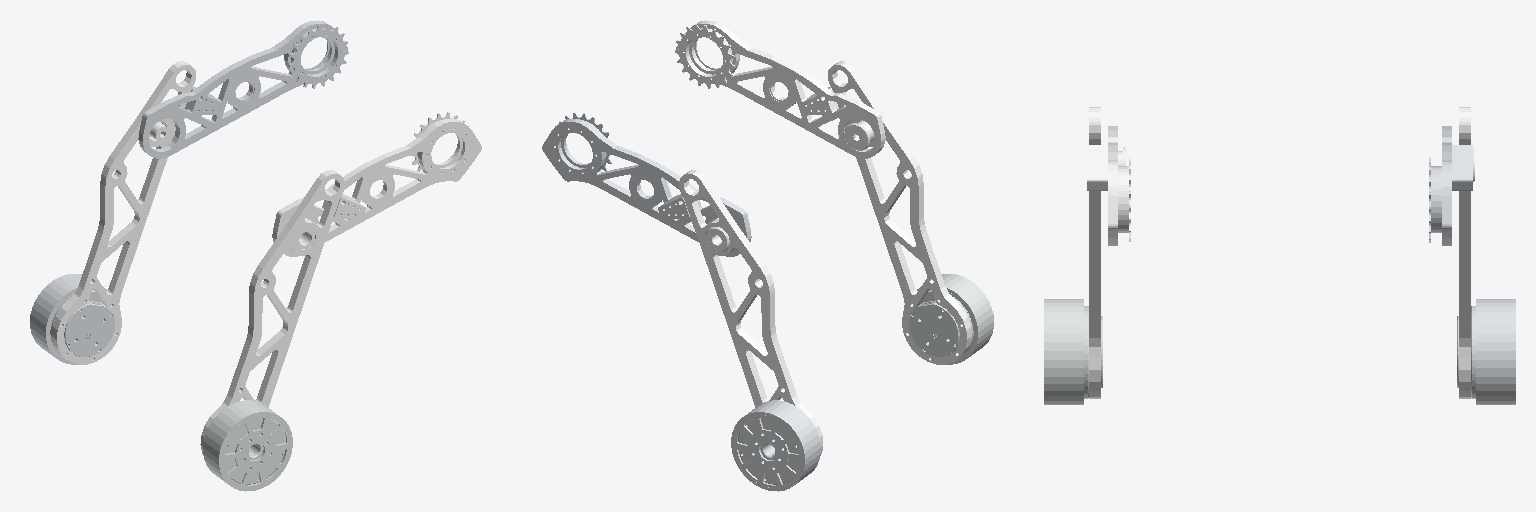
URDF robot description (LW-360 Gen2V1):
<?xml version="1.0" encoding="utf-8"?>
<!-- This URDF was automatically created by SolidWorks to URDF Exporter! Originally created by Stephen Brawner (brawner@gmail.com)
     Commit Version: 1.6.0-1-g15f4949  Build Version: 1.6.7594.29634
     For more information, please see http://wiki.ros.org/sw_urdf_exporter -->
<!-- 碰撞体已从 STL 网格改为简化几何体，与 MJCF (LW360.xml) 保持一致 -->
<!-- 左右腿参数已修正为完美对称（以右腿为基准） -->
<robot
  name="LW-360 Gen2V1">
  <link
    name="base_link">
    <inertial>
      <origin
        xyz="-0.0383947 -0.0008525 -0.0655415"
        rpy="0 0 0" />
      <mass
        value= "7.3247159" />
      <inertia
        ixx="0.1185013"
        ixy="0.0000558"
        ixz="0.0037814"
        iyy="0.1507238"
        iyz="0.0004387"
        izz="0.2153489" />
    </inertial>
    <visual>
      <origin
        xyz="0 0 0"
        rpy="0 0 0" />
      <geometry>
        <mesh
          filename="meshes/base_link.STL" />
      </geometry>
      <material
        name="">
        <color
          rgba="1 1 1 1" />
      </material>
    </visual>
    <!-- base_link 碰撞体: 主体箱体 -->
    <collision>
      <origin
        xyz="-0.04 0 -0.1"
        rpy="0 0 0" />
      <geometry>
        <box size="0.46 0.24 0.18" />
      </geometry>
    </collision>
    <!-- base_link 碰撞体: 右侧电机 -->
    <collision>
      <origin
        xyz="-0.034 -0.12 -0.03"
        rpy="1.5708 0 0" />
      <geometry>
        <cylinder radius="0.05" length="0.08" />
      </geometry>
    </collision>
    <!-- base_link 碰撞体: 左侧电机 -->
    <collision>
      <origin
        xyz="-0.034 0.12 -0.03"
        rpy="1.5708 0 0" />
      <geometry>
        <cylinder radius="0.05" length="0.08" />
      </geometry>
    </collision>
  </link>
  <link
    name="right_thigh_link">
    <inertial>
      <origin
        xyz="-0.0137451473004268 0.0110123343866449 0.0984245547482283"
        rpy="0 0 0" />
      <mass
        value="0.610696054077469" />
      <inertia
        ixx="0.0035478"
        ixy="-0.0000036"
        ixz="0.0003795"
        iyy="0.0037918"
        iyz="0.0000241"
        izz="0.0003382" />
    </inertial>
    <visual>
      <origin
        xyz="0 0 0"
        rpy="0 0 0" />
      <geometry>
        <mesh
          filename="meshes/right_thigh_link.STL" />
      </geometry>
      <material
        name="">
        <color
          rgba="1 1 1 1" />
      </material>
    </visual>
    <!-- right_thigh 碰撞体: 关节电机 -->
    <collision>
      <origin
        xyz="0 0.02 0"
        rpy="1.5708 0 0" />
      <geometry>
        <cylinder radius="0.035" length="0.1" />
      </geometry>
    </collision>
    <!-- right_thigh 碰撞体: 连杆 -->
    <collision>
      <origin
        xyz="-0.01 0 0.11"
        rpy="0.0 0 0" />
      <geometry>
        <cylinder radius="0.025" length="0.2" />
      </geometry>
    </collision>
  </link>
  <joint
    name="right_thigh_joint"
    type="revolute">
    <origin
      xyz="-0.0337728171221104 -0.164614695167351 -0.0274999999999989"
      rpy="0 0 0" />
    <parent
      link="base_link" />
    <child
      link="right_thigh_link" />
    <axis
      xyz="0 -1 0" />
    <limit
      lower="0.7"
      upper="2.7"
      effort="40"
      velocity="17" />
  </joint>
  <link
    name="right_calf_link">
    <inertial>
      <origin
        xyz="-0.083871 0.0078304 0.047461"
        rpy="0 0 0" />
      <mass
        value="0.3123662" />
      <inertia
        ixx="0.0009584"
        ixy="-0.0000480"
        ixz=" 0.0014136"
        iyy="0.0036658"
        iyz="0.0000271"
        izz="0.0027379" />
    </inertial>
    <visual>
      <origin
        xyz="0 0 0"
        rpy="0 0 0" />
      <geometry>
        <mesh
          filename="meshes/right_calf_link.STL" />
      </geometry>
      <material
        name="">
        <color
          rgba="1 1 1 1" />
      </material>
    </visual>
    <!-- right_calf 碰撞体: 关节电机 -->
    <collision>
      <origin
        xyz="0 0.015 0"
        rpy="1.5708 0 0" />
      <geometry>
        <cylinder radius="0.03" length="0.06" />
      </geometry>
    </collision>
    <!-- right_calf 碰撞体: L型连杆1 (从关节到拐点) -->
    <!-- MJCF: fromto="0 0.01 0.02 -0.18 0.01 0.10" -->
    <collision>
      <origin
        xyz="-0.09 0.01 0.06"
        rpy="-0.0 2.0 0" />
      <geometry>
        <cylinder radius="0.015" length="0.20" />
      </geometry>
    </collision>
    <!-- right_calf 碰撞体: L型连杆2 (从拐点到轮子) -->
    <!-- MJCF: fromto="-0.18 0.01 0.10 -0.22 0.01 0.12" -->
    <collision>
      <origin
        xyz="-0.20 0.01 0.11"
        rpy="0 0.46 0" />
      <geometry>
        <cylinder radius="0.02" length="0.02" />
      </geometry>
    </collision>
  </link>
  <joint
    name="right_calf_joint"
    type="revolute">
    <origin
      xyz="-0.0331636364236594 -0.0184999999999837 0.212426865577682"
      rpy="0 0 0" />
    <parent
      link="right_thigh_link" />
    <child
      link="right_calf_link" />
    <axis
      xyz="0 1 0" />
    <limit
      lower="-2.1"
      upper="0.9"
      effort="40"
      velocity="17" />
  </joint>
  <link
    name="right_foot_link">
    <inertial>
      <origin
        xyz="-0.0000015 0.0197779 -0.0000114"
        rpy="0 0 0" />
      <mass
        value="1.1015508" />
      <inertia
        ixx="0.0008532"
        ixy="0"
        ixz="0.0000002"
        iyy="0.0013495"
        iyz="0"
        izz="0.0008535" />
    </inertial>
    <visual>
      <origin
        xyz="0 0 0"
        rpy="0 0 0" />
      <geometry>
        <mesh
          filename="meshes/right_foot_link.STL" />
      </geometry>
      <material
        name="">
        <color
          rgba="0.90196 0.92157 0.92157 1" />
      </material>
    </visual>
    <!-- right_foot 碰撞体: 轮子 -->
    <collision>
      <origin
        xyz="0 0.02 0"
        rpy="1.5708 0 0" />
      <geometry>
        <cylinder radius="0.05" length="0.04" />
      </geometry>
    </collision>
  </link>
  <joint
    name="right_foot_joint"
    type="continuous">
    <origin
      xyz="-0.226463894503409 -0.0391999999999997 0.123604629712413"
      rpy="0 0 0" />
    <parent
      link="right_calf_link" />
    <child
      link="right_foot_link" />
    <axis
      xyz="0 1 0" />
  </joint>
  <link
    name="left_thigh_link">
    <inertial>
      <origin
        xyz="-0.0137451473004268 -0.0110123343866449 0.0984245547482283"
        rpy="0 0 0" />
      <mass
        value="0.610696054077469" />
      <inertia
        ixx="0.0035478"
        ixy="0.0000036"
        ixz="0.0003795"
        iyy="0.0037918"
        iyz="-0.0000241"
        izz="0.0003382" />
    </inertial>
    <visual>
      <origin
        xyz="0 0 0"
        rpy="0 0 0" />
      <geometry>
        <mesh
          filename="meshes/left_thigh_link.STL" />
      </geometry>
      <material
        name="">
        <color
          rgba="0.89804 0.91765 0.92941 1" />
      </material>
    </visual>
    <!-- left_thigh 碰撞体: 关节电机 (参考右侧) -->
    <collision>
      <origin
        xyz="0 -0.02 0"
        rpy="1.5708 0 0" />
      <geometry>
        <cylinder radius="0.035" length="0.1" />
      </geometry>
    </collision>
    <!-- left_thigh 碰撞体: 连杆 (参考右侧) -->
    <collision>
      <origin
        xyz="-0.01 0 0.11"
        rpy="0.0 0 0" />
      <geometry>
        <cylinder radius="0.025" length="0.2" />
      </geometry>
    </collision>
  </link>
  <joint
    name="left_thigh_joint"
    type="revolute">
    <origin
      xyz="-0.0337728171221104 0.164614695167351 -0.0274999999999989"
      rpy="0 0 0" />
    <parent
      link="base_link" />
    <child
      link="left_thigh_link" />
    <axis
      xyz="0 1 0" />
    <limit
      lower="-2.7"
      upper="-0.7"
      effort="40"
      velocity="17" />
  </joint>
  <link
    name="left_calf_link">
    <inertial>
      <origin
        xyz="-0.083871 -0.0078304 0.047461"
        rpy="0 0 0" />
      <mass
        value="0.3123662" />
      <inertia
        ixx="0.0009584"
        ixy="0.0000480"
        ixz="0.0014136"
        iyy="0.0036658"
        iyz="-0.0000271"
        izz="0.0027379" />
    </inertial>
    <visual>
      <origin
        xyz="0 0 0"
        rpy="0 0 0" />
      <geometry>
        <mesh
          filename="meshes/left_calf_link.STL" />
      </geometry>
      <material
        name="">
        <color
          rgba="1 1 1 1" />
      </material>
    </visual>
    <!-- left_calf 碰撞体: 关节电机 (参考右侧) -->
    <collision>
      <origin
        xyz="0 -0.015 0"
        rpy="1.5708 0 0" />
      <geometry>
        <cylinder radius="0.03" length="0.06" />
      </geometry>
    </collision>
    <!-- left_calf 碰撞体: L型连杆1 (从关节到拐点, 参考右侧) -->
    <!-- MJCF: fromto="0 -0.01 0.02 -0.18 -0.01 0.10" -->
    <collision>
      <origin
        xyz="-0.09 -0.01 0.06"
        rpy="-0.0 2.0 0" />
      <geometry>
        <cylinder radius="0.015" length="0.20" />
      </geometry>
    </collision>
    <!-- left_calf 碰撞体: L型连杆2 (从拐点到轮子, 参考右侧) -->
    <!-- MJCF: fromto="-0.18 -0.01 0.10 -0.22 -0.01 0.12" -->
    <collision>
      <origin
        xyz="-0.20 -0.01 0.11"
        rpy="0 0.46 0" />
      <geometry>
        <cylinder radius="0.02" length="0.02" />
      </geometry>
    </collision>
  </link>
  <joint
    name="left_calf_joint"
    type="revolute">
    <origin
      xyz="-0.0331636364236594 0.0184999999999837 0.212426865577682"
      rpy="0 0 0" />
    <parent
      link="left_thigh_link" />
    <child
      link="left_calf_link" />
    <axis
      xyz="0 -1 0" />
    <limit
      lower="-0.9"
      upper="2.1"
      effort="40"
      velocity="17" />
  </joint>
  <link
    name="left_foot_link">
    <inertial>
      <origin
        xyz="-0.0000015 -0.0197779 -0.0000114"
        rpy="0 0 0" />
      <mass
        value="1.1015508" />
      <inertia
        ixx="0.0008532"
        ixy="0"
        ixz="0.0000002"
        iyy="0.0013495"
        iyz="0"
        izz="0.0008535" />
    </inertial>
    <visual>
      <origin
        xyz="0 0 0"
        rpy="0 0 0" />
      <geometry>
        <mesh
          filename="meshes/left_foot_link.STL" />
      </geometry>
      <material
        name="">
        <color
          rgba="0.89804 0.91765 0.92941 1" />
      </material>
    </visual>
    <!-- left_foot 碰撞体: 轮子 -->
    <collision>
      <origin
        xyz="0 -0.02 0"
        rpy="1.5708 0 0" />
      <geometry>
        <cylinder radius="0.05" length="0.04" />
      </geometry>
    </collision>
  </link>
  <joint
    name="left_foot_joint"
    type="continuous">
    <origin
      xyz="-0.226463894503409 0.039200000000002 0.123604629712404"
      rpy="0 0 0" />
    <parent
      link="left_calf_link" />
    <child
      link="left_foot_link" />
    <axis
      xyz="0 -1 0" />
  </joint>
</robot>

--- What the picture shows (computed from the rendered views, not written in the file) ---
The picture shows the robot from 3 angles, left to right: view 1: azimuth 30°, elevation 25°; view 2: azimuth 150°, elevation 25°; view 3: azimuth 270°, elevation 25°; orthographic projection.
Model LW-360 Gen2V1 with 7 links and 6 joints (4 revolute, 2 continuous), rooted at base_link, posed all joints at 0 but 2 set to mid-range because 0 is outside their limits (right_thigh_joint = 1.7, left_thigh_joint = -1.7).
Visible links, largest first — view 1: left_thigh_link, left_calf_link, right_calf_link, right_thigh_link, right_foot_link, left_foot_link; view 2: right_calf_link, right_thigh_link, left_calf_link, left_thigh_link, left_foot_link, right_foot_link; view 3: right_foot_link, left_foot_link, right_calf_link, left_thigh_link, right_thigh_link, left_calf_link.
Boxes of the visible links, x1=… form: left_thigh_link: x1=138, y1=20, x2=348, y2=158; left_calf_link: x1=52, y1=61, x2=195, y2=364; right_calf_link: x1=200, y1=170, x2=344, y2=455; right_thigh_link: x1=272, y1=112, x2=481, y2=256; right_foot_link: x1=203, y1=400, x2=292, y2=491; left_foot_link: x1=30, y1=274, x2=114, y2=364; right_calf_link: x1=828, y1=61, x2=971, y2=364; right_thigh_link: x1=675, y1=20, x2=885, y2=158; left_calf_link: x1=679, y1=170, x2=822, y2=455; left_thigh_link: x1=542, y1=112, x2=751, y2=256; left_foot_link: x1=731, y1=400, x2=820, y2=491; right_foot_link: x1=909, y1=274, x2=993, y2=364; right_foot_link: x1=1044, y1=299, x2=1102, y2=404; left_foot_link: x1=1457, y1=299, x2=1515, y2=404; right_calf_link: x1=1089, y1=107, x2=1125, y2=398; left_thigh_link: x1=1429, y1=126, x2=1472, y2=245; right_thigh_link: x1=1087, y1=126, x2=1130, y2=245; left_calf_link: x1=1459, y1=107, x2=1474, y2=398.
Size in the robot's own frame: 0.3974 by 0.4506 by 0.3927 metres.
Meshes: 7 distinct files referenced, 6 mesh visuals loaded (6 binary STL); not drawn: 1 (reference not matched to a file when rendering).
